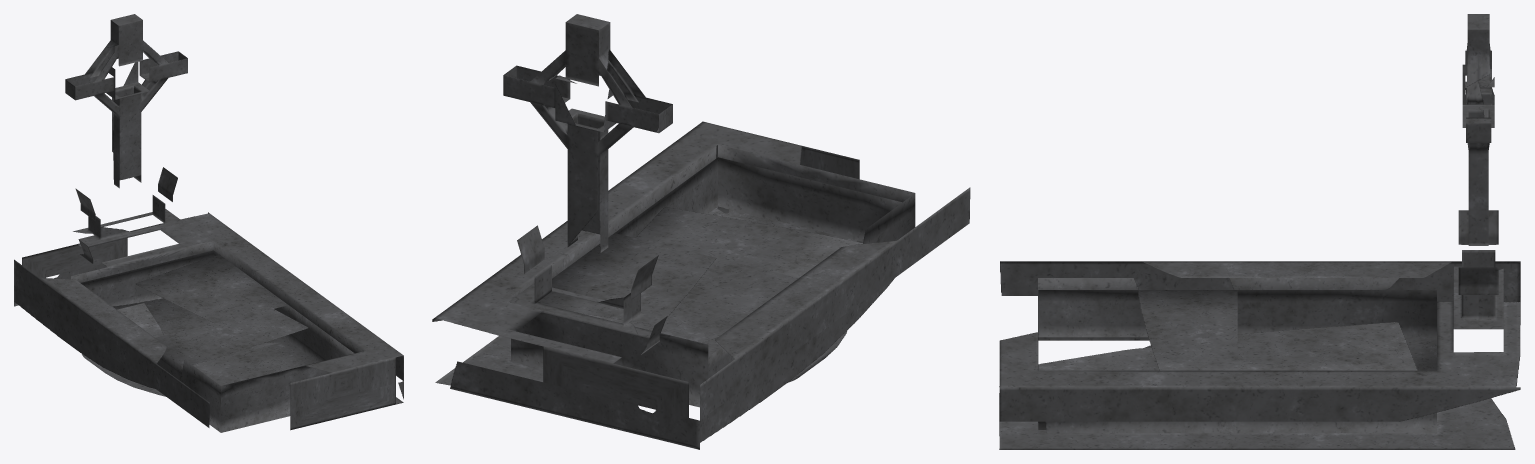
File: grave_10.fbx
The picture shows the model from 3 angles, left to right: view 1: azimuth 30°, elevation 25°; view 2: azimuth 150°, elevation 25°; view 3: azimuth 270°, elevation 25°; orthographic projection. The views are drawn at different scales.
Parts seen in each view (by area): view 1: grave.009; view 2: grave.009; view 3: grave.009.
Part boxes in pixels (x1,y1,x2,y2): grave.009: (14, 14, 403, 432); grave.009: (432, 14, 970, 449); grave.009: (999, 14, 1520, 449).
Size of the model in its own units: 199 by 270 by 349.
